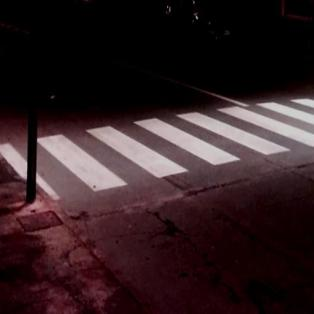Paso de Cebra: (83, 105, 241, 184)
